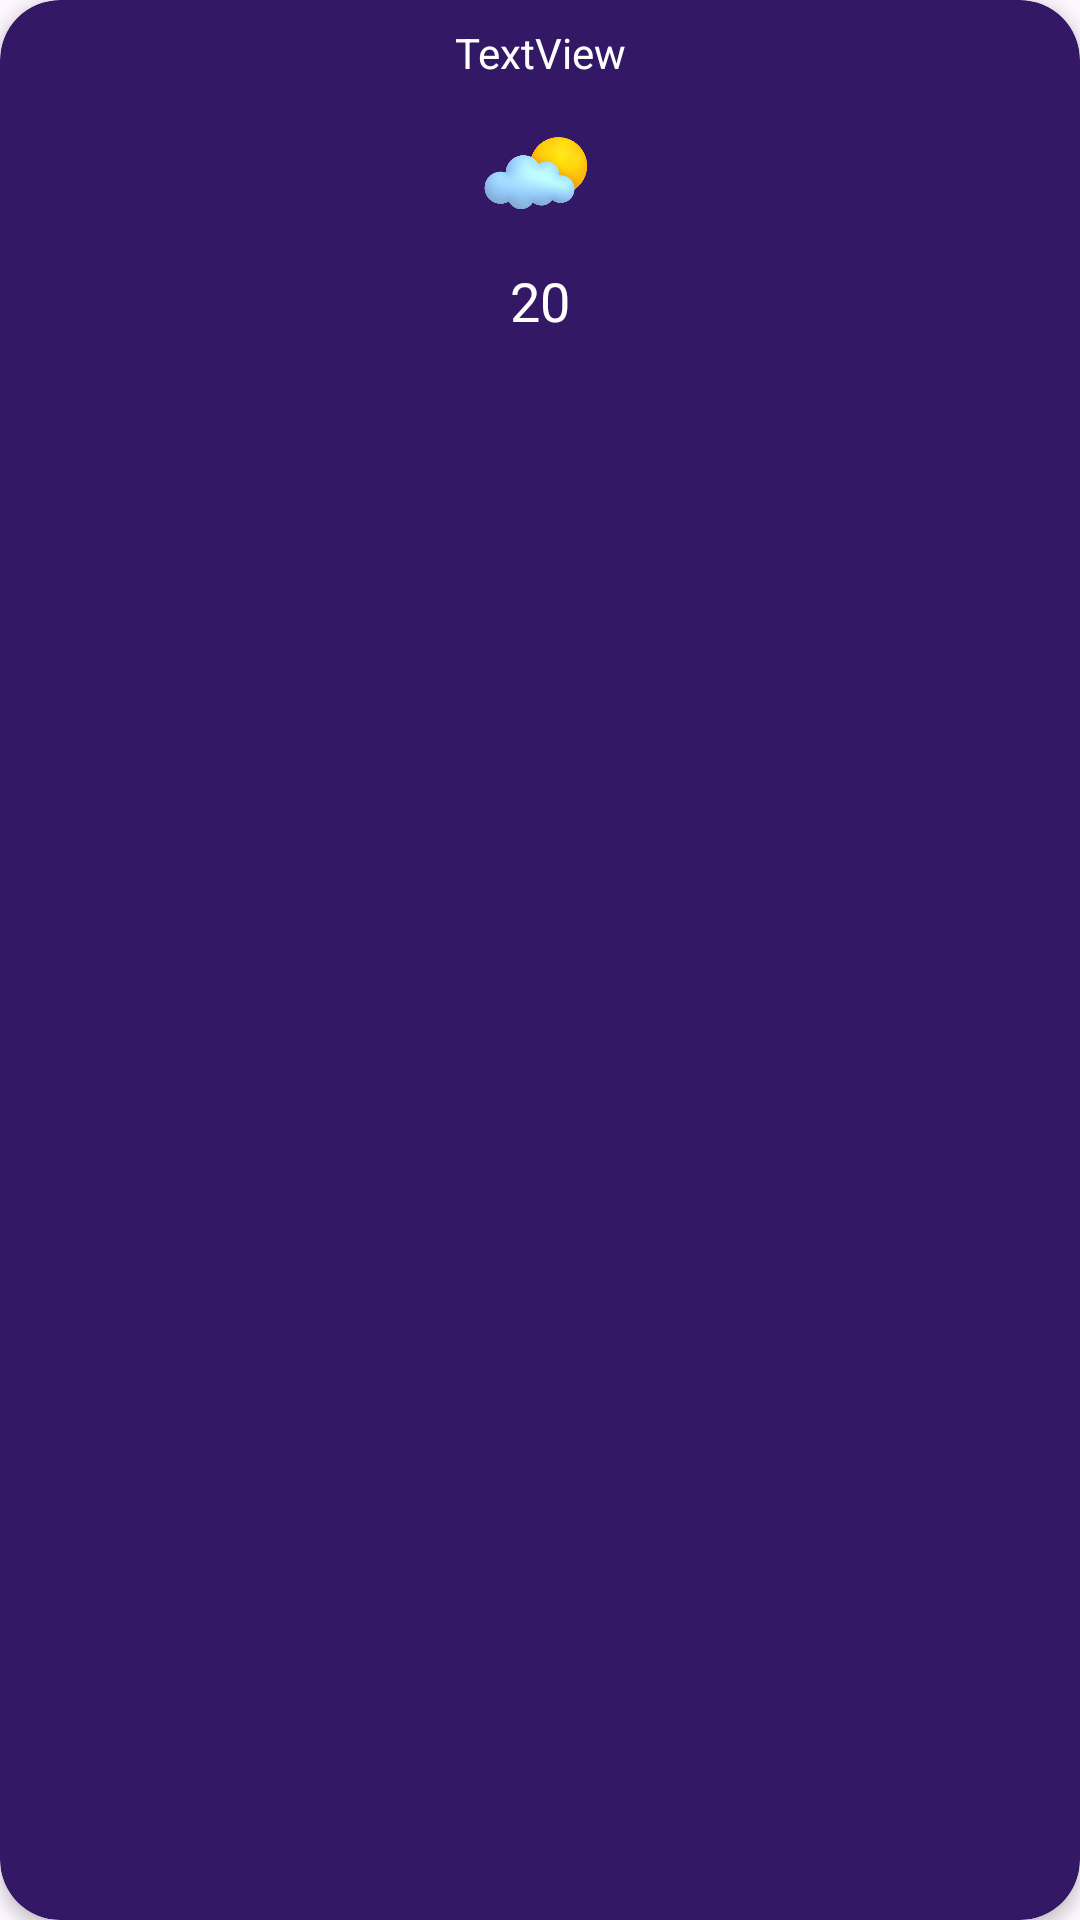

Icons on this 1080 x 1920 Android screen, each with the point to tap as point (x, y):
cloud sunny: point (535, 173)
